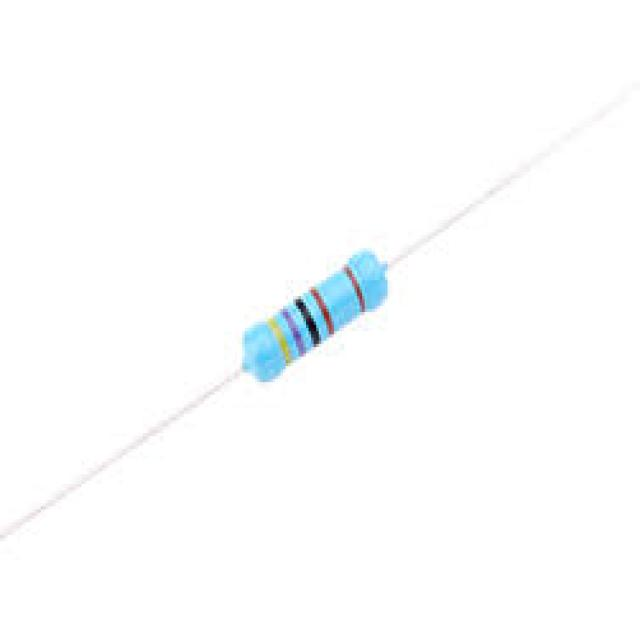Resistor: (236, 242, 393, 384)
